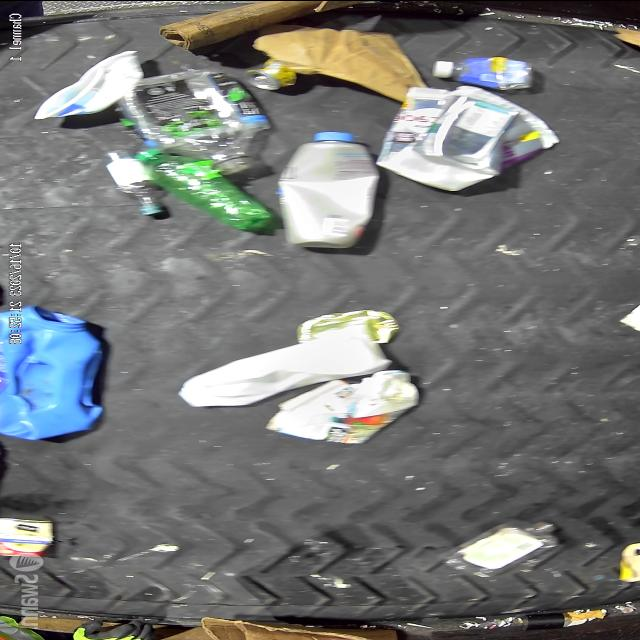can: (293, 307, 401, 345), (0, 514, 58, 558), (240, 57, 302, 90)
non_white_jug: (174, 317, 394, 409), (0, 304, 106, 441)
plastic_bottle: (117, 67, 273, 176), (100, 148, 164, 220)
